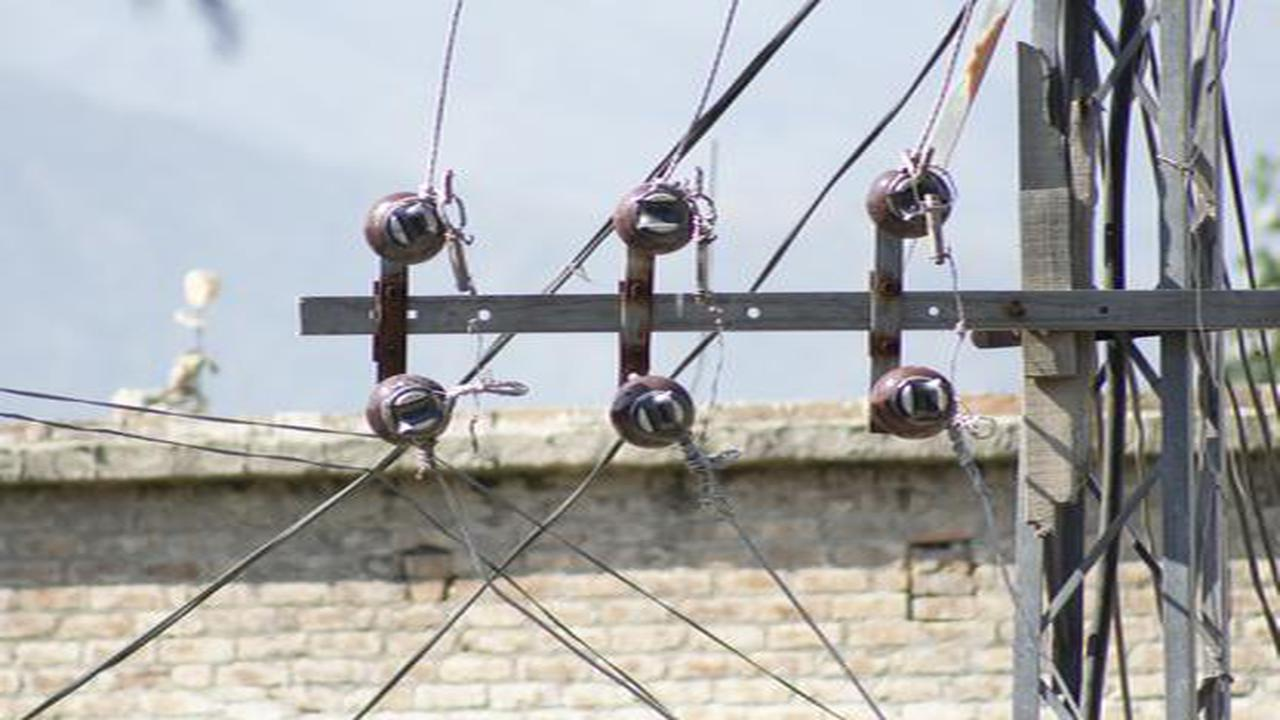insulator_pin: (862, 360, 964, 443), (360, 180, 452, 268), (361, 369, 455, 449), (607, 372, 698, 453), (862, 160, 957, 235), (611, 177, 701, 254)
